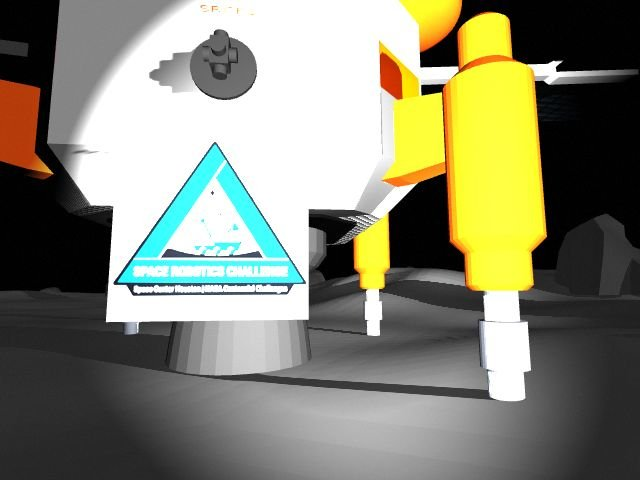basemarker: (113, 140, 305, 297)
